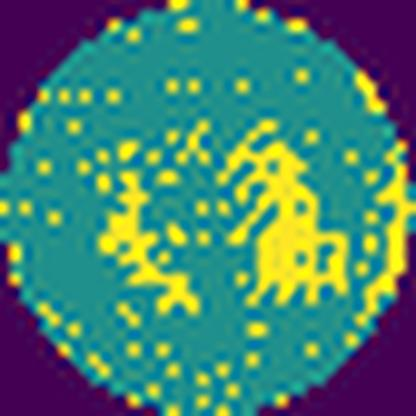Donut: (86, 113, 352, 321)
